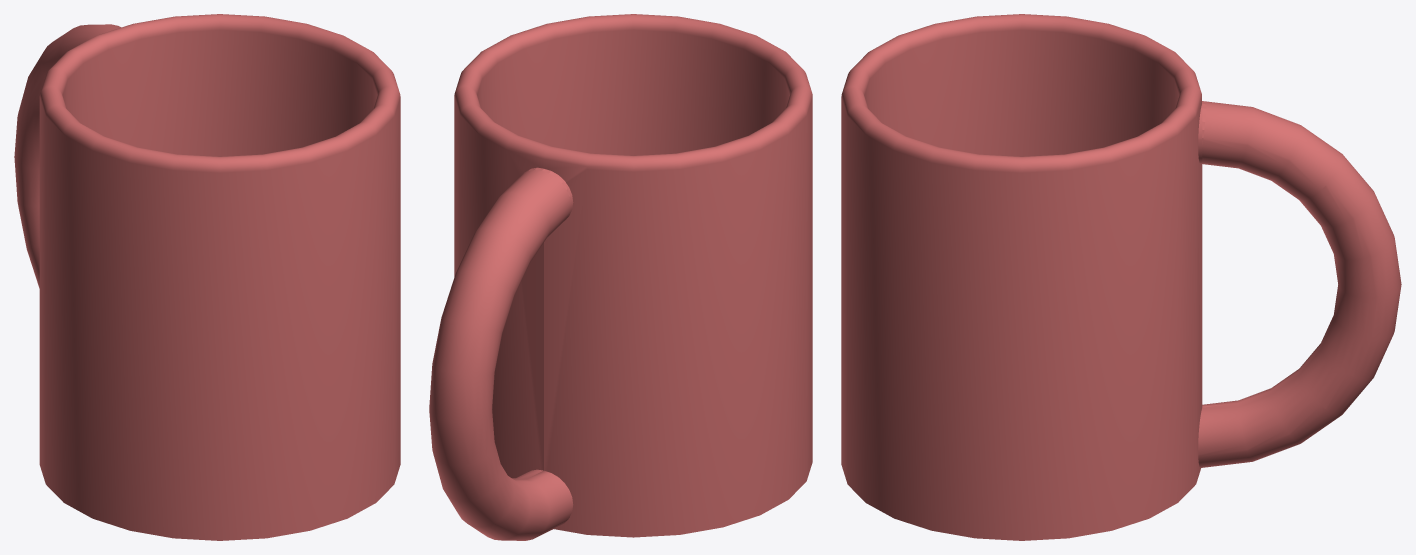
The picture shows the model from 3 angles, left to right: view 1: azimuth 30°, elevation 25°; view 2: azimuth 150°, elevation 25°; view 3: azimuth 270°, elevation 25°; orthographic projection.
Parts seen in each view (by area): view 1: mesh1_mesh1-geometry; view 2: mesh1_mesh1-geometry; view 3: mesh1_mesh1-geometry.
Boxes of the visible parts, x1=… form: mesh1_mesh1-geometry: x1=14, y1=14, x2=400, y2=540; mesh1_mesh1-geometry: x1=429, y1=14, x2=812, y2=540; mesh1_mesh1-geometry: x1=841, y1=14, x2=1401, y2=540.
Size of the model in its own units: 0.4586 by 0.532 by 0.7118.
